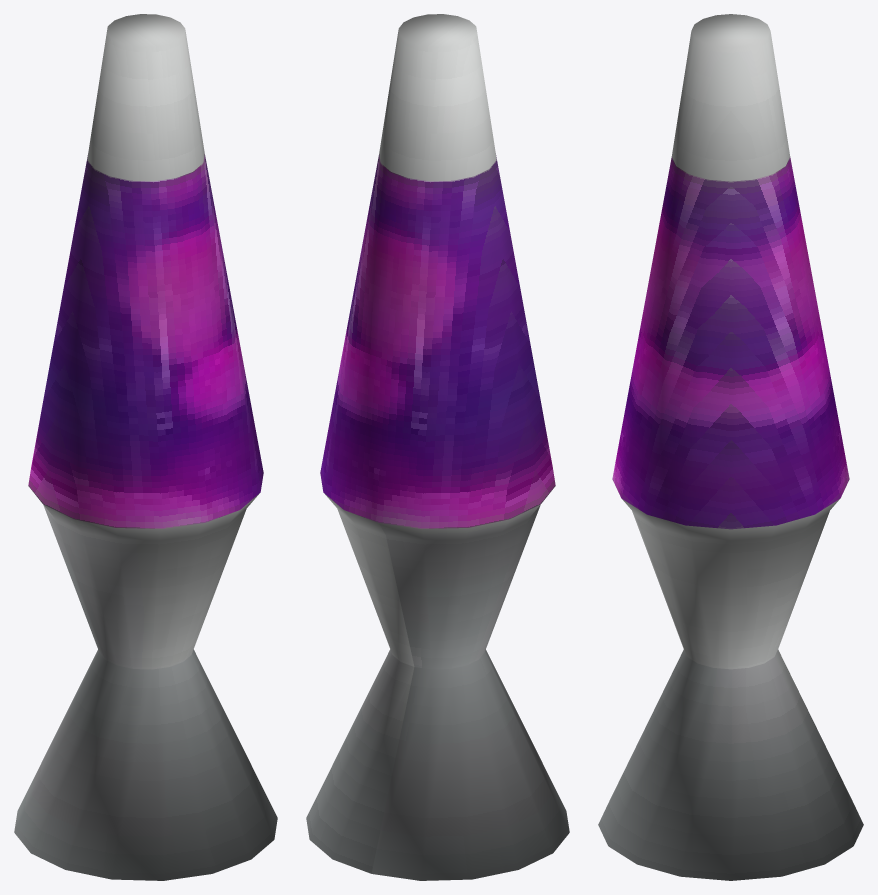
File: WorldItem_HCLavaLamp.fbx
3 renders of one model, left to right at view 1: azimuth 30°, elevation 25°; view 2: azimuth 150°, elevation 25°; view 3: azimuth 270°, elevation 25°, orthographic.
Visible parts, largest first — view 1: LavaLamp; view 2: LavaLamp; view 3: LavaLamp.
Boxes of the visible parts, <box> form: LavaLamp: <box>14,14,277,880</box>; LavaLamp: <box>306,14,569,880</box>; LavaLamp: <box>598,14,863,880</box>.
Size of the model in its own units: 0.0751 by 0.2475 by 0.0751.
